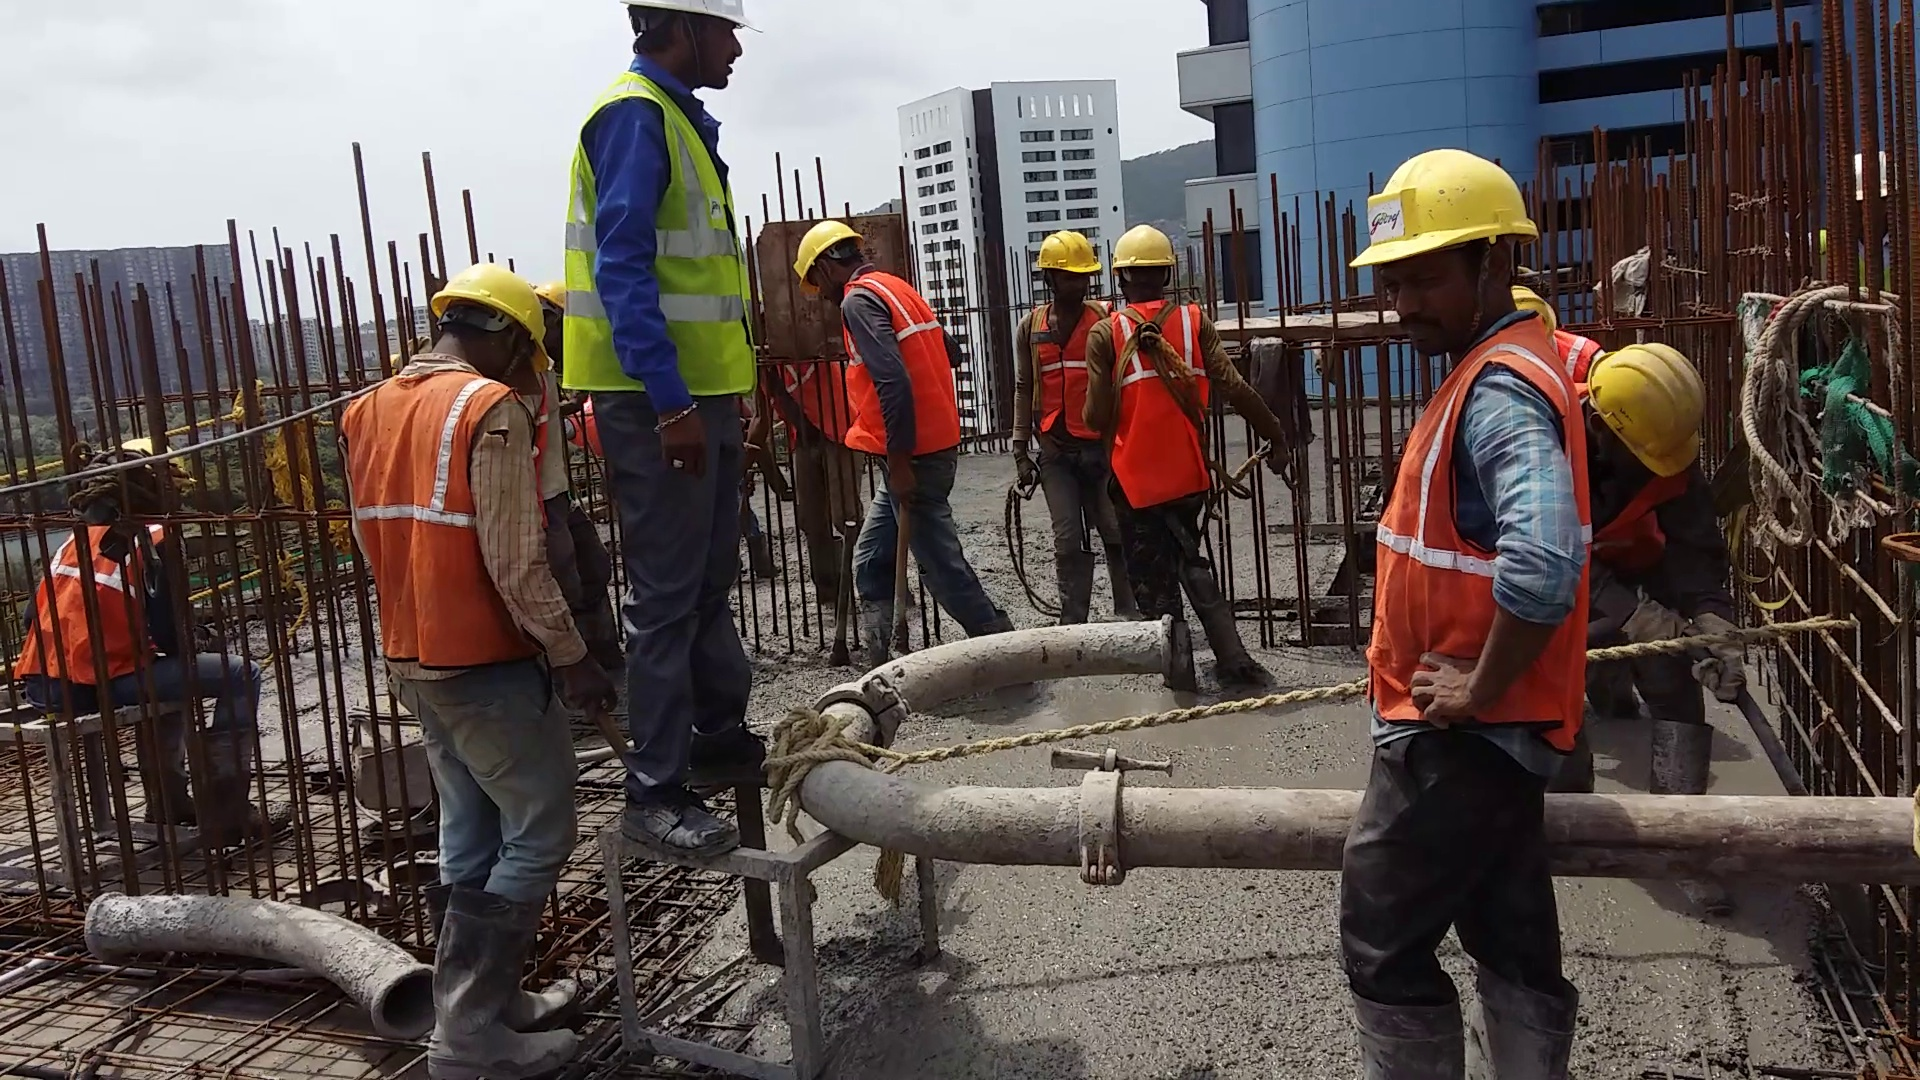SAFE: (1353, 146, 1593, 738), (338, 261, 549, 679), (553, 1, 767, 407), (791, 212, 977, 481), (1088, 218, 1207, 512)
